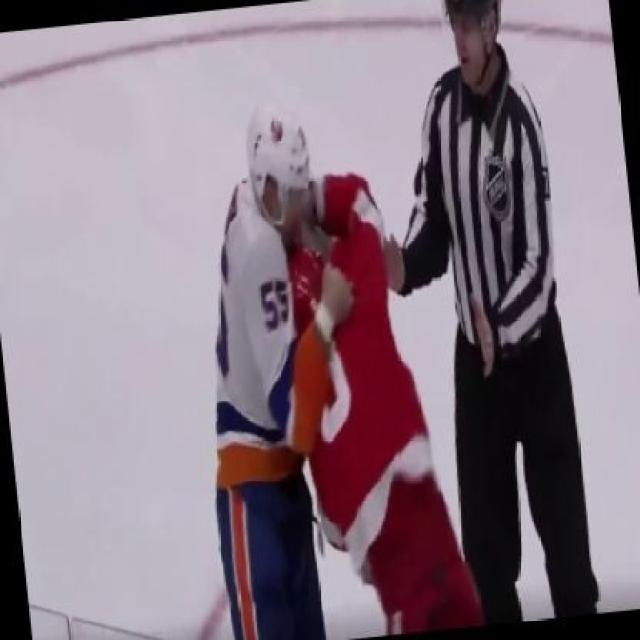fight: (190, 85, 491, 640)
non-fight: (324, 0, 635, 638)
